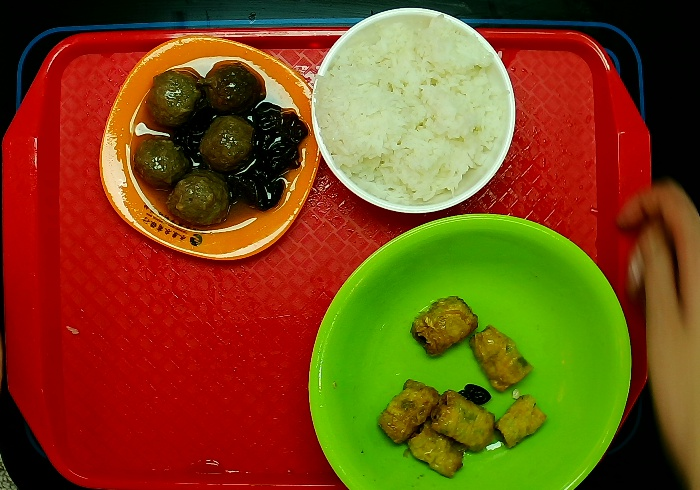YKMZ-Fan_Wan: (308, 8, 516, 215)
YKMZ-Ju_Se_Fang_Die: (95, 31, 324, 265)
YKMZ-Lv_Se_Tang_Wan: (300, 211, 648, 490)
